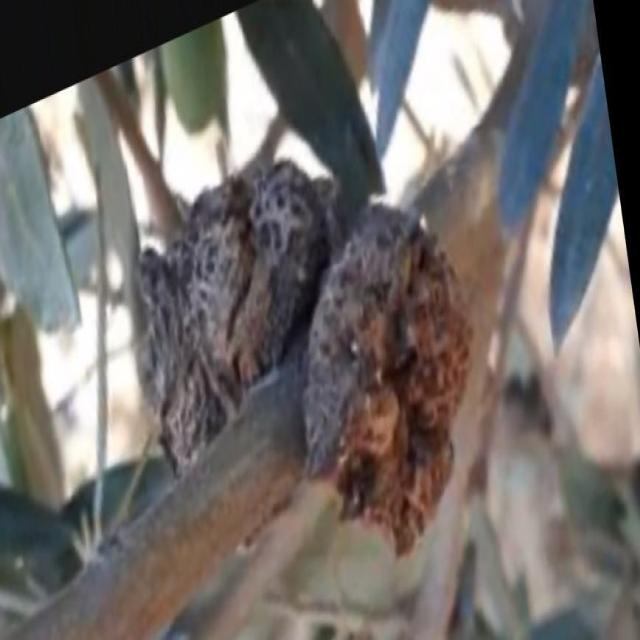Tuberculosis: (303, 203, 473, 554), (135, 160, 347, 420)
